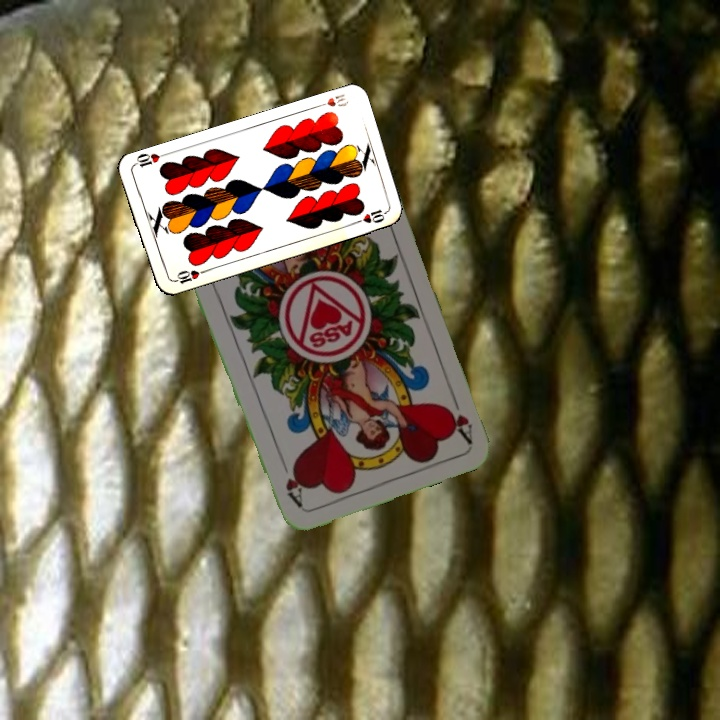H10: (168, 266, 208, 287), (311, 90, 351, 110)
HA: (442, 387, 475, 445)
